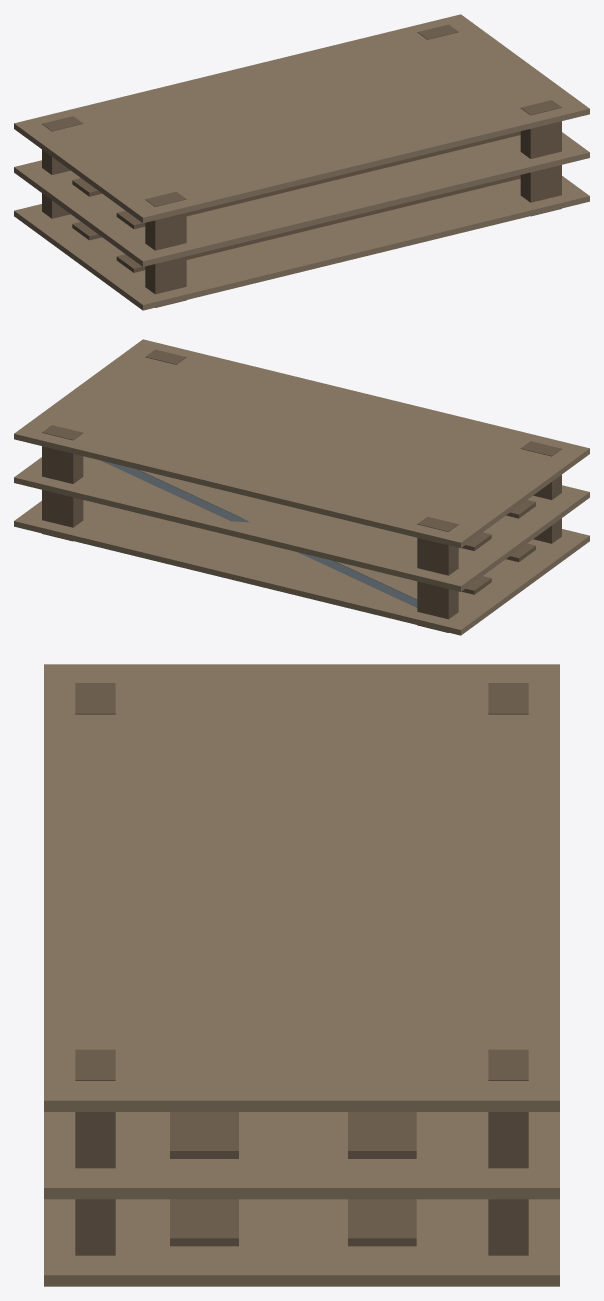
The model's file is drying_rack.glb.
The picture shows the model from 3 angles, top to bottom: view 1: azimuth 30°, elevation 25°; view 2: azimuth 150°, elevation 25°; view 3: azimuth 270°, elevation 25°; orthographic projection. The views are drawn at different scales.
Parts seen in each view (by area): view 1: drying_rack; view 2: drying_rack; view 3: drying_rack.
Boxes of the visible parts, x1,y1,x2,y2 form: drying_rack: [14, 14, 589, 310]; drying_rack: [14, 339, 589, 635]; drying_rack: [44, 664, 559, 1286].
Bounding box in the file's own units: 5.76 × 1.25 × 2.88.
